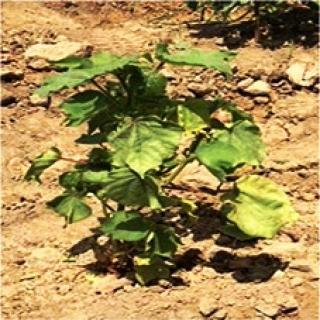wilt: (220, 175, 297, 232), (126, 244, 168, 284), (169, 101, 207, 133)
